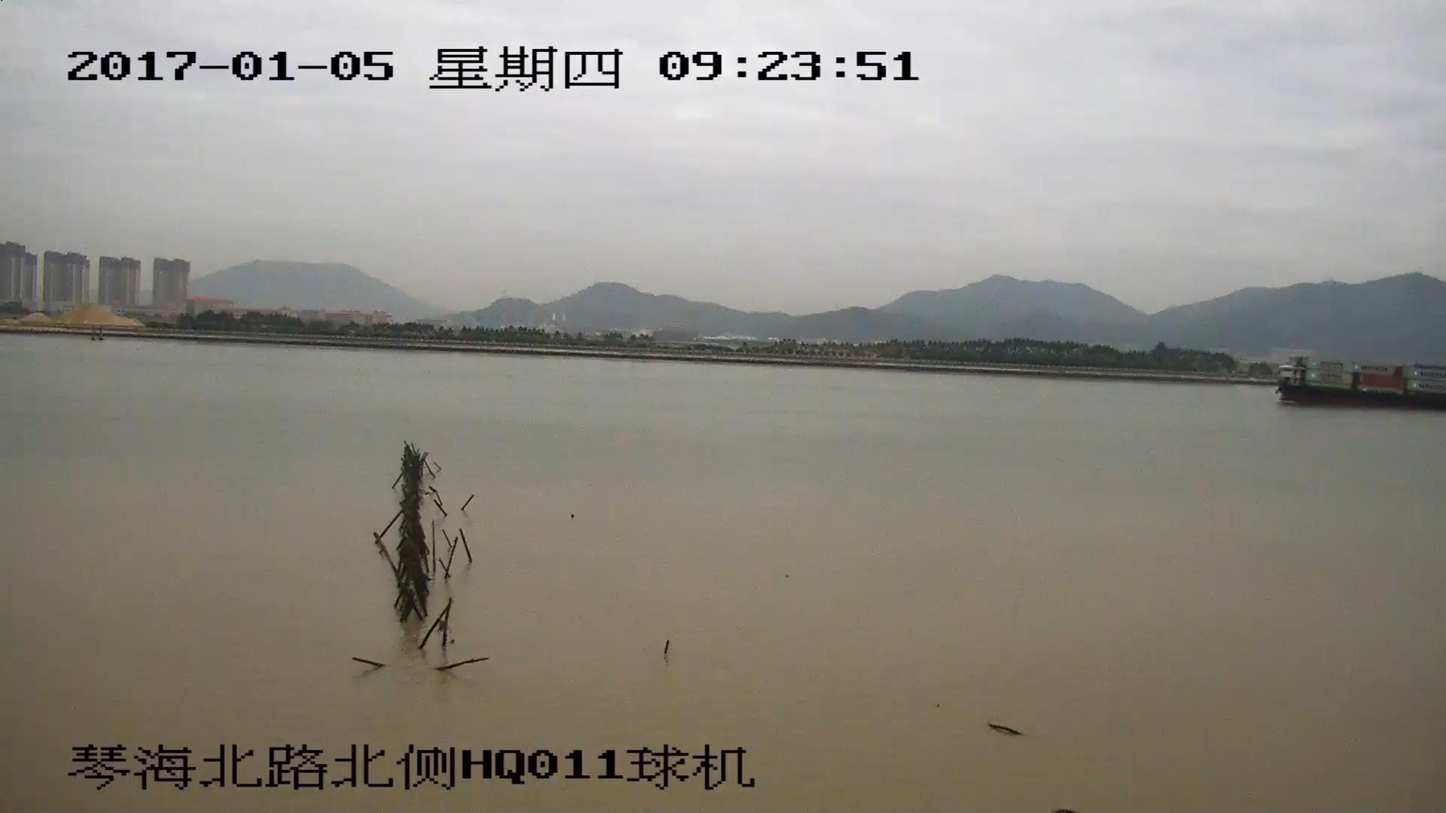container ship: (1273, 358, 1445, 408)
